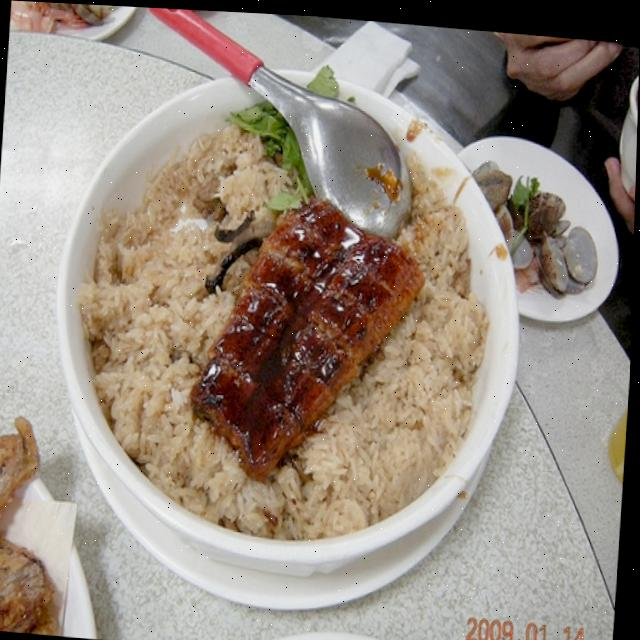米饭主食: (40, 33, 540, 611)
